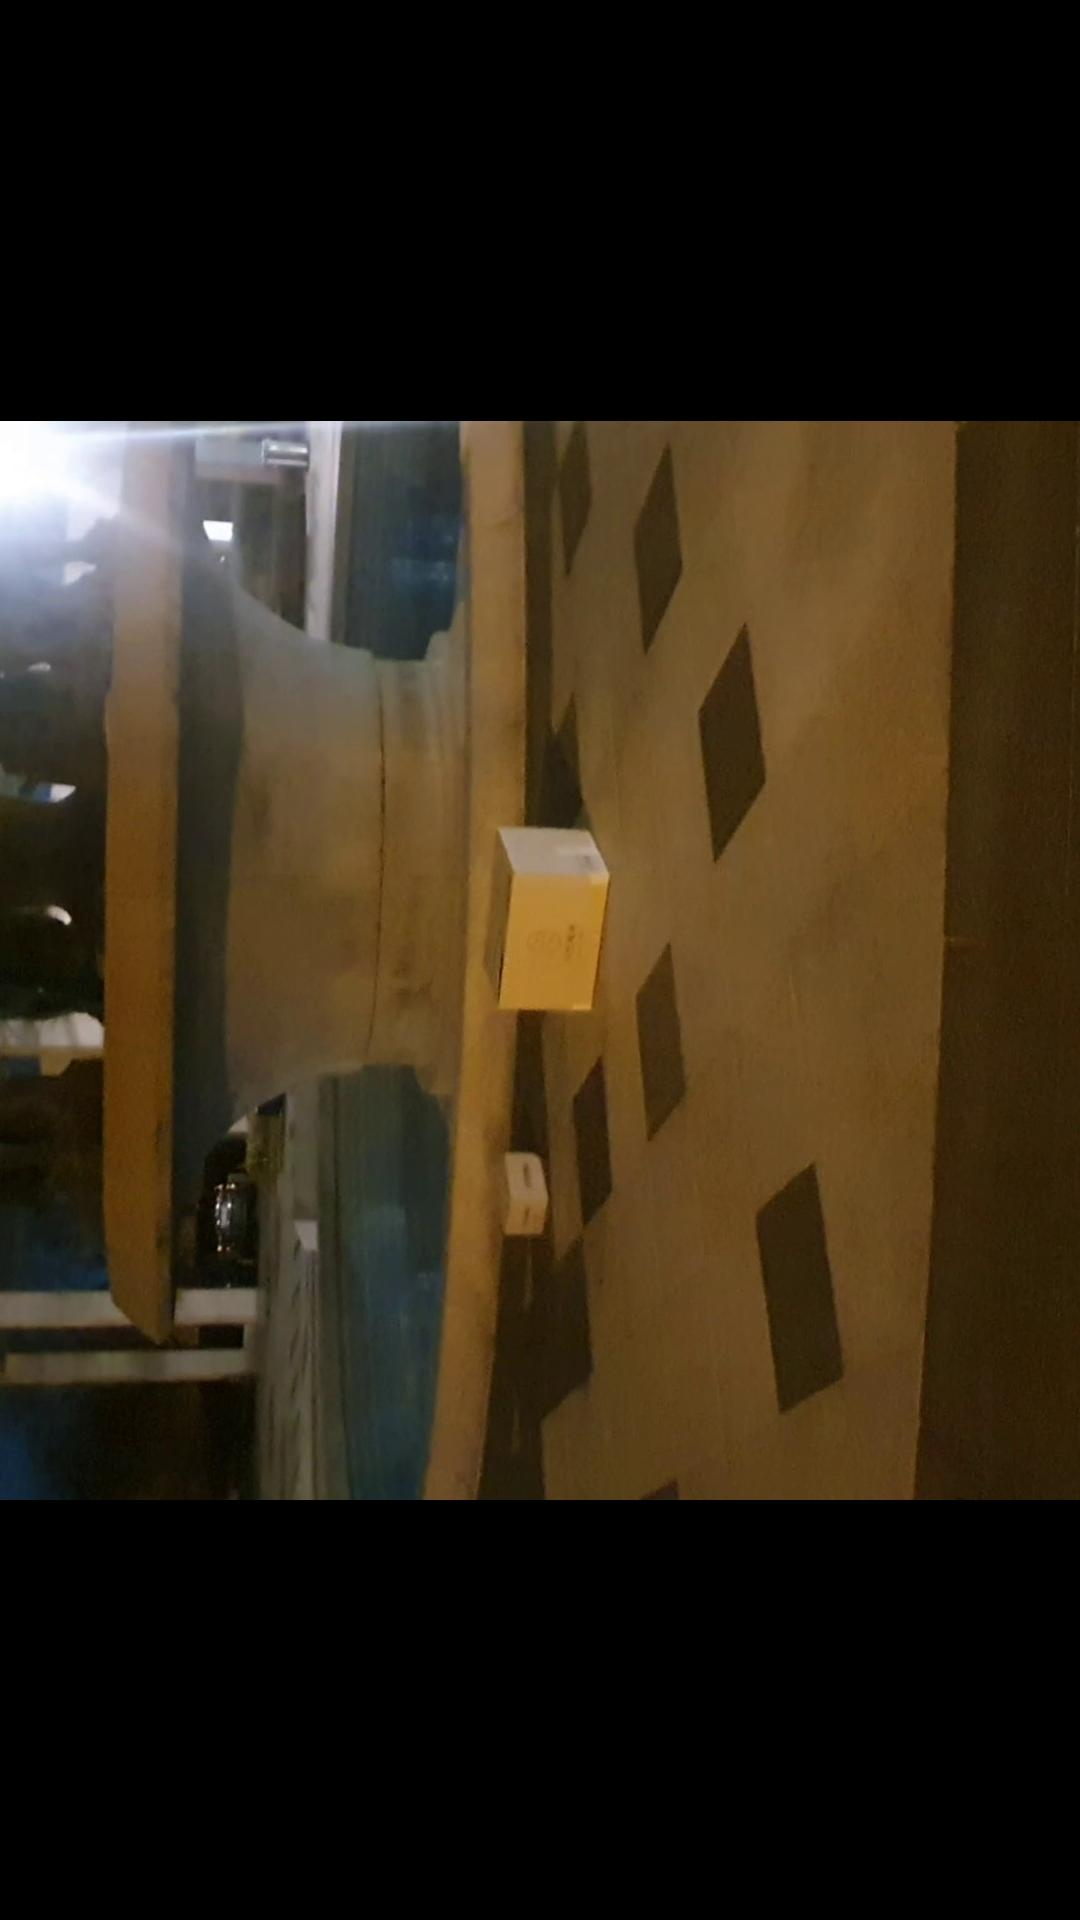Box: (465, 808, 625, 1025), (483, 1142, 553, 1234)
